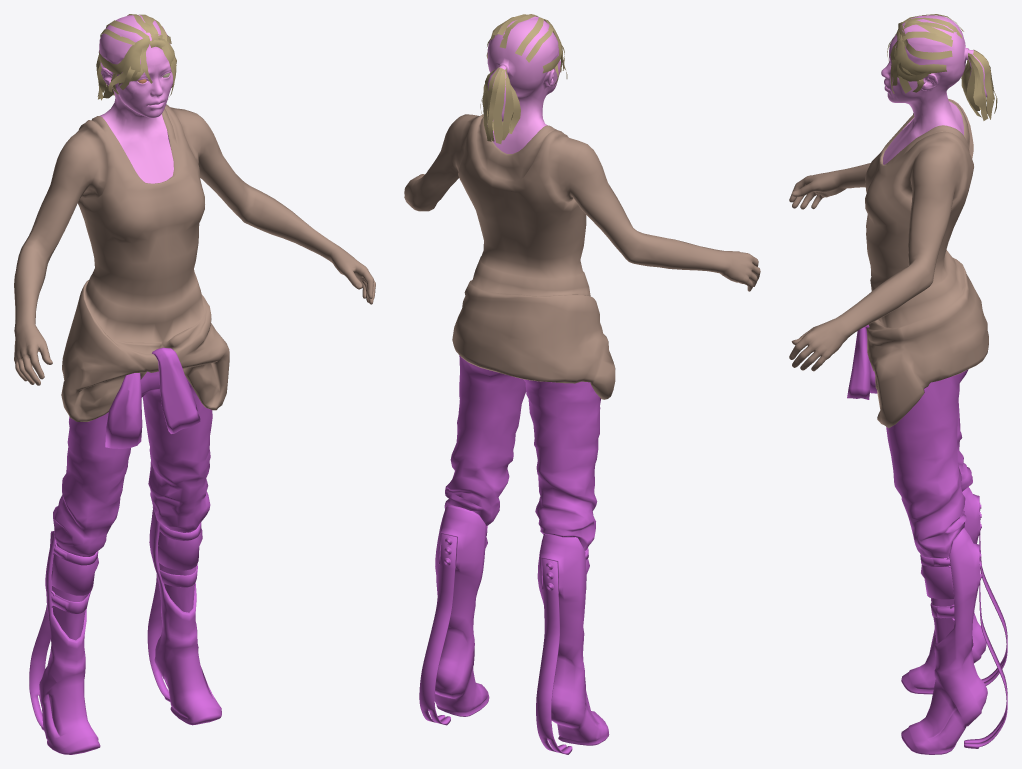
Rendered from Chell resting pose.obj.
3 renders of one model, left to right at view 1: azimuth 30°, elevation 25°; view 2: azimuth 150°, elevation 25°; view 3: azimuth 270°, elevation 25°, orthographic.
Parts seen in each view (by area): view 1: player_model_torso, player_model_legs, player_model_head, player_model_hair; view 2: player_model_torso, player_model_legs, player_model_head, player_model_hair; view 3: player_model_torso, player_model_legs, player_model_head, player_model_hair.
Part boxes in pixels (box(x1,y1,x2,y2)): player_model_torso: box(14, 104, 375, 421); player_model_legs: box(29, 347, 221, 754); player_model_head: box(99, 15, 173, 183); player_model_hair: box(96, 14, 176, 100); player_model_torso: box(404, 114, 760, 399); player_model_legs: box(419, 355, 609, 754); player_model_head: box(487, 16, 560, 153); player_model_hair: box(480, 14, 567, 143); player_model_torso: box(789, 98, 988, 428); player_model_legs: box(847, 325, 1007, 754); player_model_head: box(881, 15, 987, 164); player_model_hair: box(887, 14, 997, 120).
Bounding box in the file's own units: 39.64 × 76.58 × 21.71.
